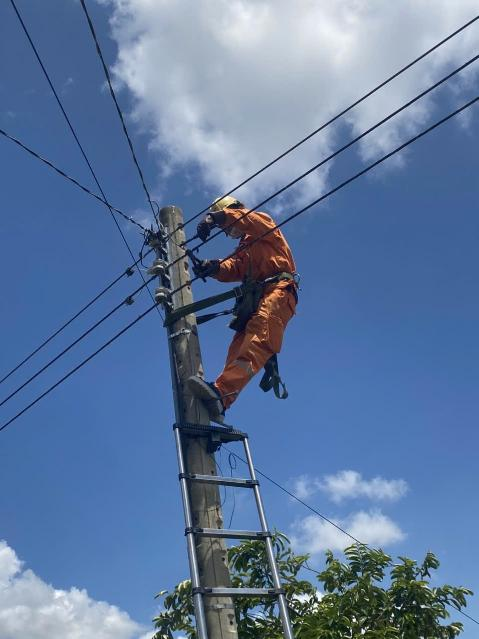gloves: (192, 211, 232, 243), (190, 254, 220, 281)
harness: (235, 272, 307, 301)
helmet: (202, 191, 247, 216)
shoes: (184, 367, 225, 419)
